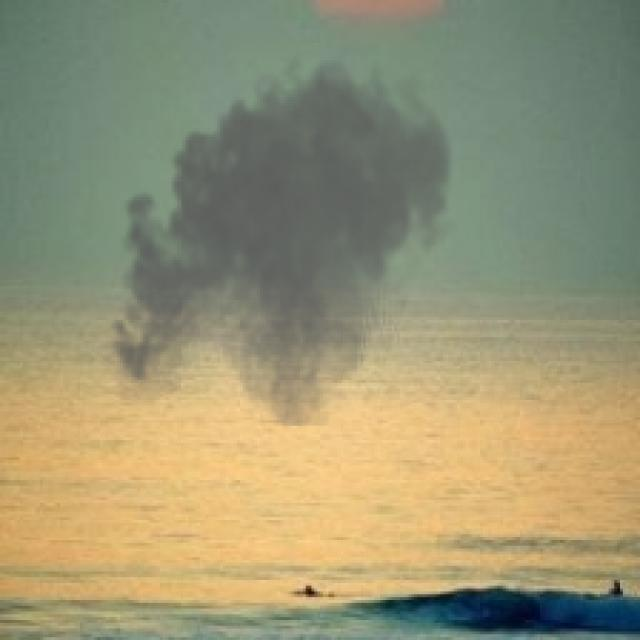smoke: (100, 43, 460, 426)
